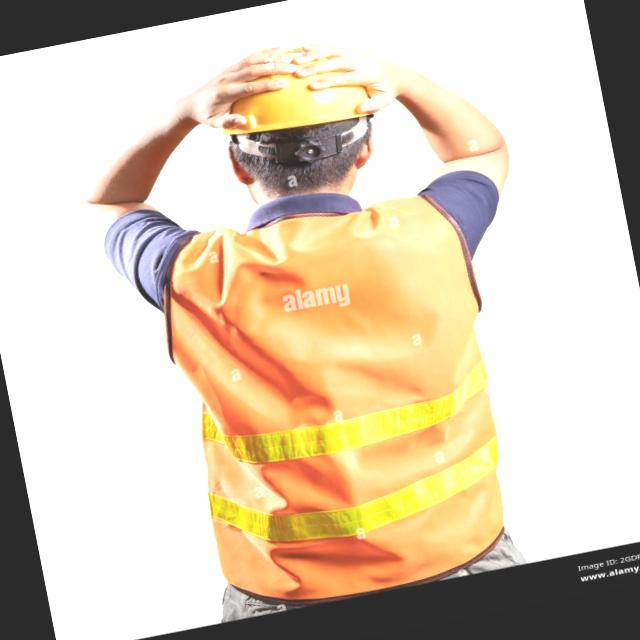helmet: (203, 31, 394, 150)
vest: (153, 170, 529, 620)
